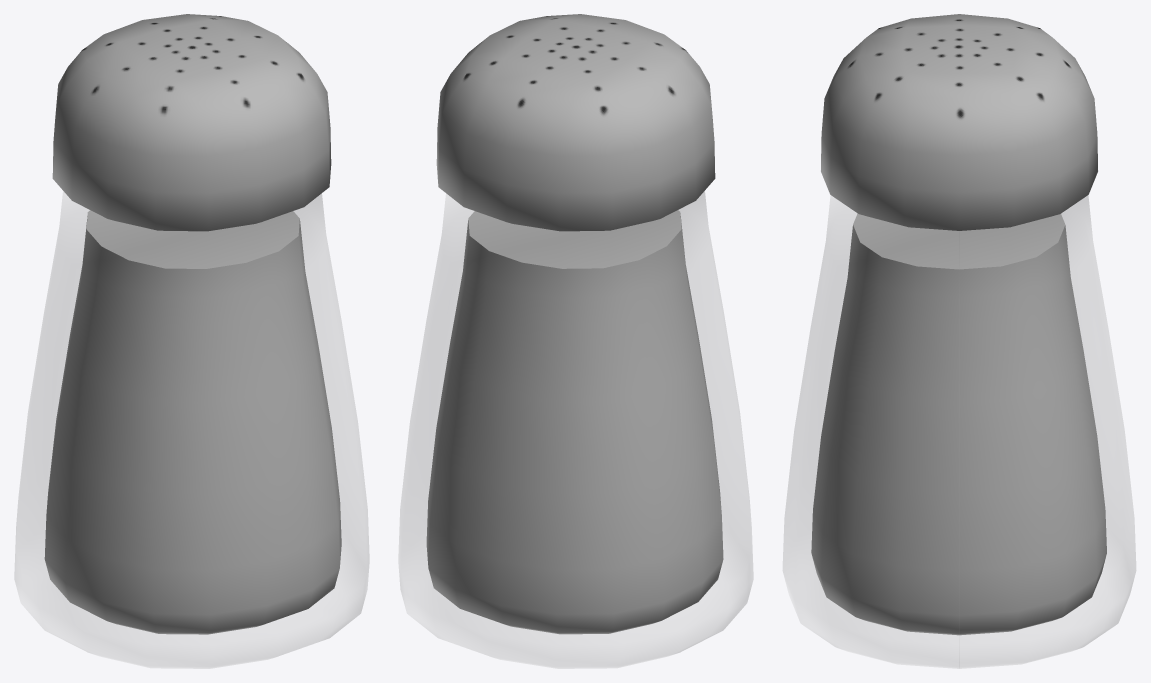
Rendered from Salt Pepper 01.fbx.
3 renders of one model, left to right at view 1: azimuth 30°, elevation 25°; view 2: azimuth 150°, elevation 25°; view 3: azimuth 270°, elevation 25°, orthographic.
Parts seen in each view (by area): view 1: Cube; view 2: Cube; view 3: Cube.
Boxes of the visible parts, x1=… form: Cube: x1=14, y1=14, x2=369, y2=668; Cube: x1=398, y1=14, x2=753, y2=668; Cube: x1=783, y1=14, x2=1135, y2=668.
Bounding box in the file's own units: 5.34 × 9.33 × 5.34.
